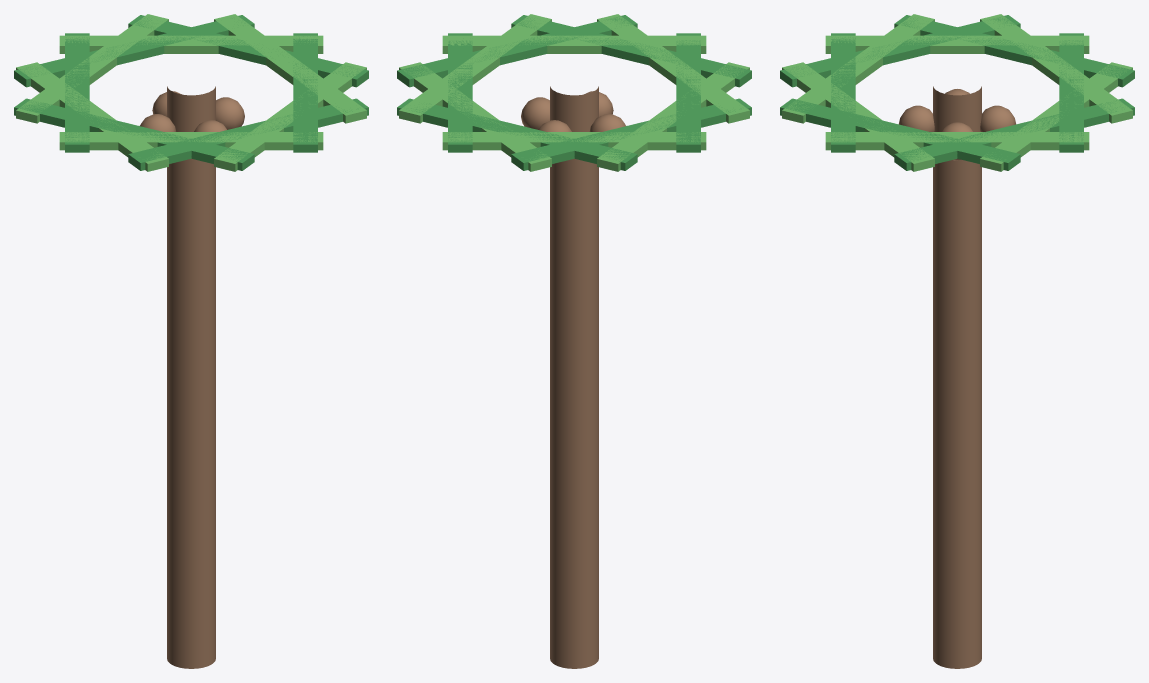
File: coconut-palm.glb
The picture shows the model from 3 angles, left to right: view 1: azimuth 30°, elevation 25°; view 2: azimuth 150°, elevation 25°; view 3: azimuth 270°, elevation 25°; orthographic projection.
Parts seen in each view (by area): view 1: trunk, frond4, frond0, frond5, frond8, frond7, frond10, frond1, frond3, frond2, frond6, frond9 (+2 smaller); view 2: trunk, frond8, frond4, frond0, frond2, frond9, frond3, frond1, frond11, frond5, frond7, frond6 (+2 smaller); view 3: trunk, frond0, frond1, frond8, frond6, frond7, frond4, frond3, frond2, frond9, frond11, frond5 (+3 smaller).
Part boxes in pixels (x1=…): trunk: x1=167, y1=86, x2=215, y2=668; frond4: x1=59, y1=132, x2=323, y2=150; frond0: x1=214, y1=14, x2=366, y2=123; frond5: x1=14, y1=98, x2=254, y2=170; frond8: x1=16, y1=14, x2=168, y2=123; frond7: x1=65, y1=33, x2=89, y2=152; frond10: x1=59, y1=35, x2=323, y2=53; frond1: x1=293, y1=33, x2=317, y2=152; frond3: x1=128, y1=98, x2=368, y2=170; frond2: x1=214, y1=62, x2=366, y2=171; frond6: x1=16, y1=62, x2=168, y2=171; frond9: x1=14, y1=15, x2=254, y2=87; trunk: x1=550, y1=86, x2=598, y2=668; frond8: x1=442, y1=132, x2=706, y2=150; frond4: x1=597, y1=14, x2=749, y2=123; frond0: x1=399, y1=14, x2=551, y2=123; frond2: x1=442, y1=35, x2=706, y2=53; frond9: x1=397, y1=98, x2=637, y2=170; frond3: x1=511, y1=15, x2=751, y2=87; frond1: x1=397, y1=15, x2=637, y2=87; frond11: x1=448, y1=33, x2=472, y2=152; frond5: x1=676, y1=33, x2=700, y2=152; frond7: x1=511, y1=98, x2=751, y2=170; frond6: x1=597, y1=62, x2=749, y2=171; trunk: x1=933, y1=86, x2=981, y2=668; frond0: x1=825, y1=132, x2=1089, y2=150; frond1: x1=780, y1=98, x2=1020, y2=170; frond8: x1=980, y1=14, x2=1132, y2=123; frond6: x1=825, y1=35, x2=1089, y2=53; frond7: x1=894, y1=15, x2=1134, y2=87; frond4: x1=782, y1=14, x2=934, y2=123; frond3: x1=831, y1=33, x2=855, y2=152; frond2: x1=782, y1=62, x2=934, y2=171; frond9: x1=1059, y1=33, x2=1083, y2=152; frond11: x1=894, y1=98, x2=1134, y2=170; frond5: x1=780, y1=15, x2=1020, y2=87.
Bounding box in the file's own units: 4.04 × 7.2 × 4.04.
